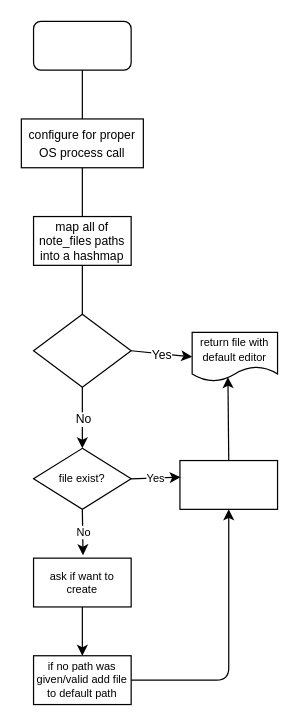
Some shapes in this 299 by 726 pixel diagram are drawn without their labels. The box of each missing label's shape, as (x1, y1, x2, y2) in pixels:
"lazynote nana": (32, 20, 131, 70)
add to notes_files: (179, 459, 278, 509)
contains in hash map?: (32, 313, 131, 387)
